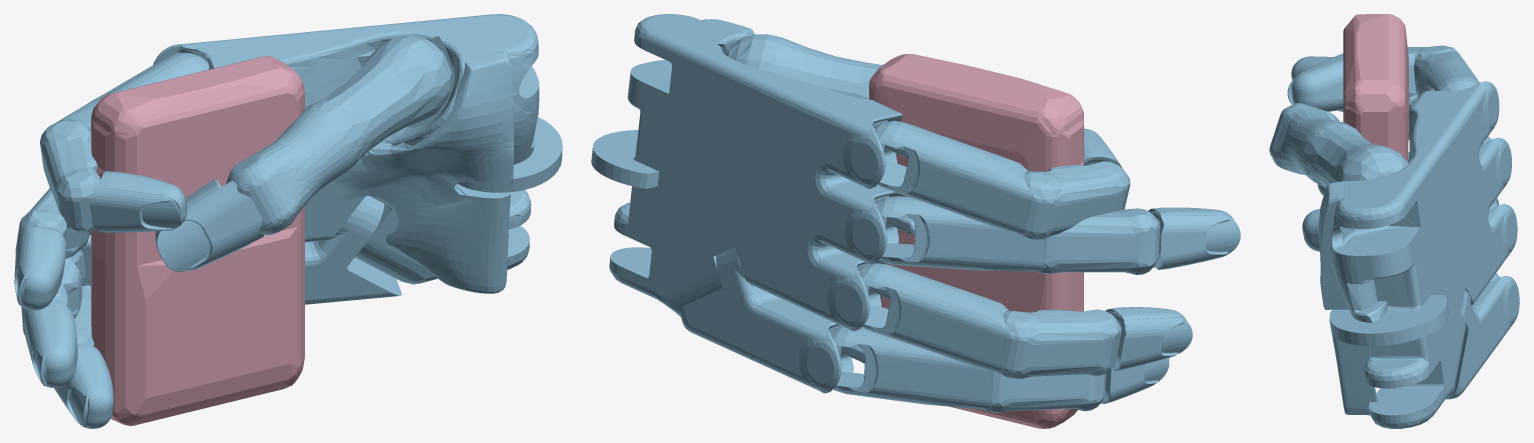
The picture shows the model from 3 angles, left to right: view 1: azimuth 30°, elevation 25°; view 2: azimuth 150°, elevation 25°; view 3: azimuth 270°, elevation 25°; orthographic projection. The views are drawn at different scales.
Visible parts, largest first — view 1: hand_isaac_q, world; view 2: hand_isaac_q, world; view 3: hand_isaac_q, world.
Part boxes in pixels (x1=…): hand_isaac_q: x1=14, y1=14, x2=562, y2=428; world: x1=91, y1=56, x2=304, y2=426; hand_isaac_q: x1=591, y1=14, x2=1240, y2=412; world: x1=869, y1=54, x2=1083, y2=428; hand_isaac_q: x1=1269, y1=45, x2=1519, y2=428; world: x1=1343, y1=14, x2=1408, y2=160.
Bounding box in the file's own units: 0.1981 × 0.1044 × 0.082.
